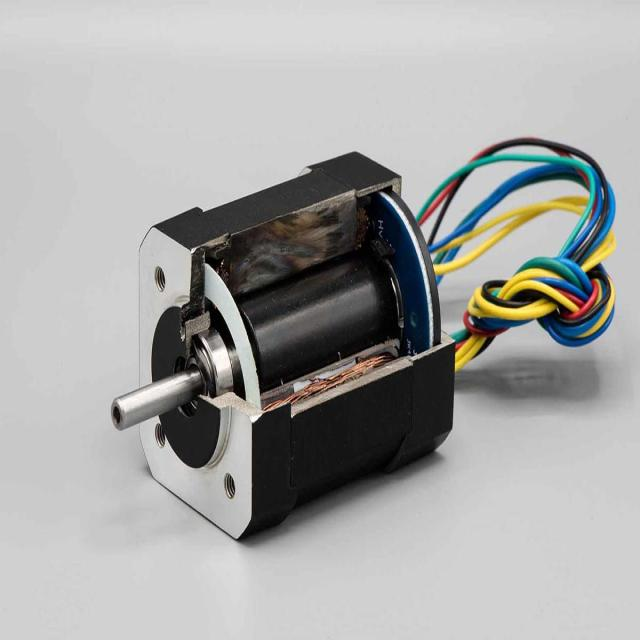motor: (111, 130, 485, 565)
